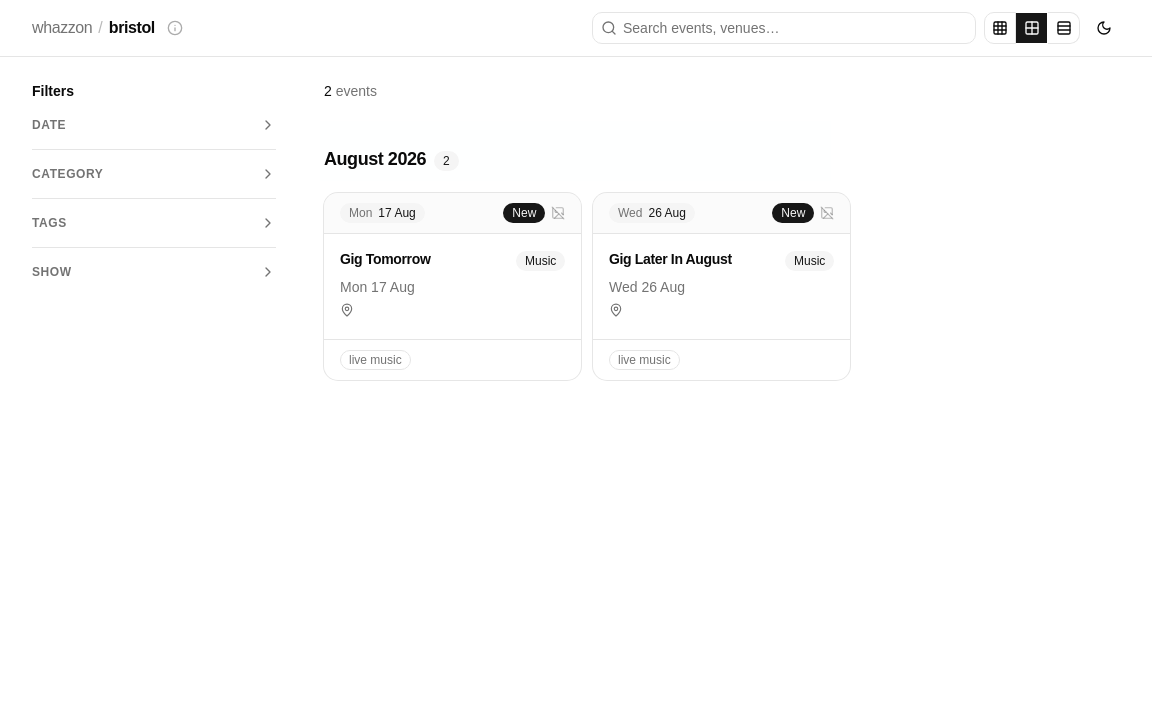
the date control, on the real page › filters when days are clicked in the calendar
Check: the heading "Gig Tomorrow" is shown, box [340,251,430,267]
What coordinates should you click on to do the following:
click the button "Date"
I would click on:
 (154, 125)
Its box is [32,113,276,137].
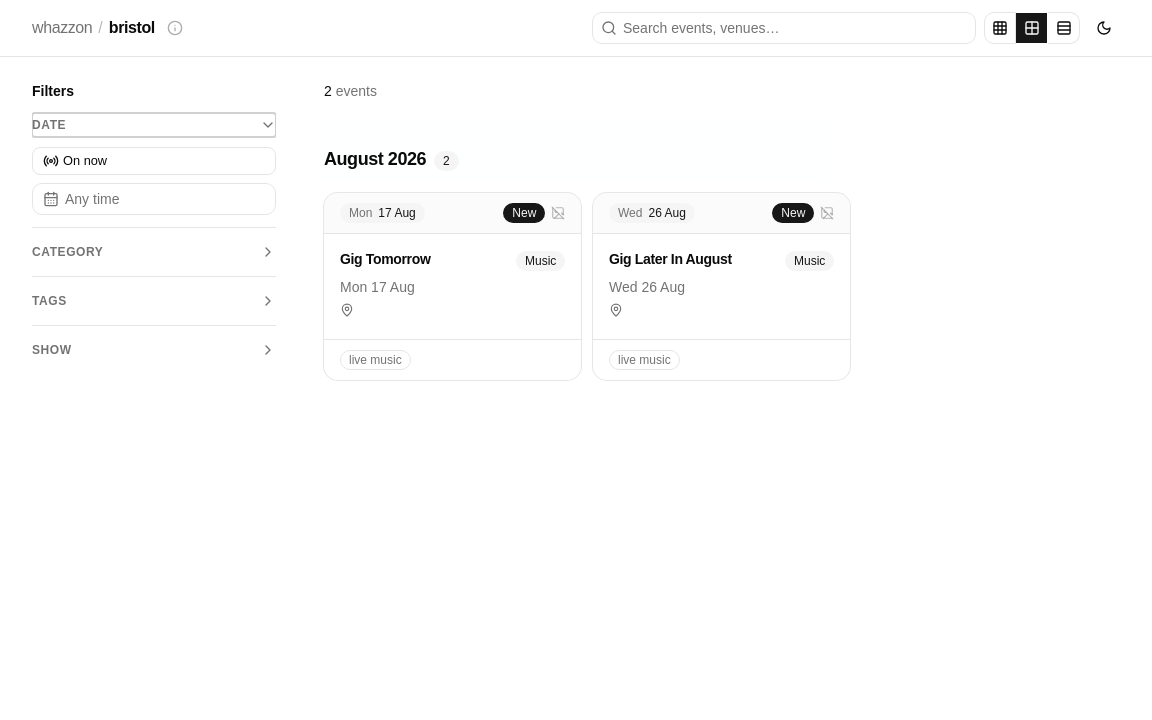
What coordinates should you click on to do the following:
click the button "Any time"
I would click on:
 (154, 199)
Its box is [32,183,276,215].
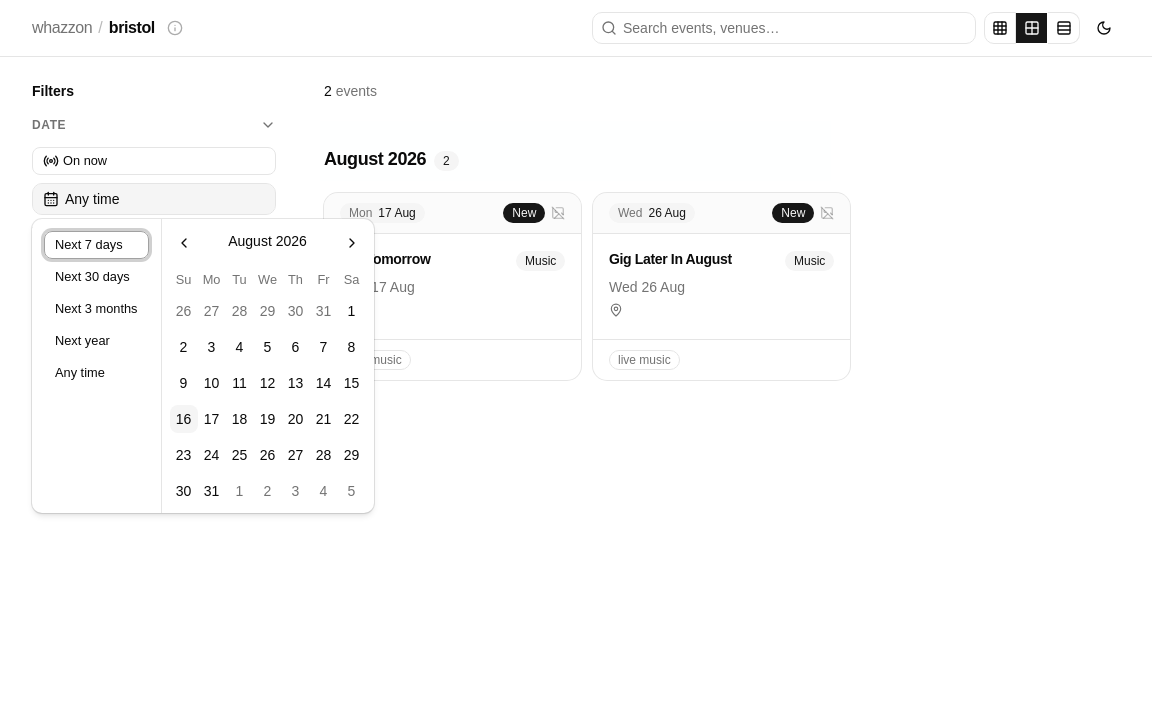
What coordinates should you click on to do the following:
click the button named "August 25th, 2026"
I would click on:
 (240, 455)
Its box is [226,441,254,469].
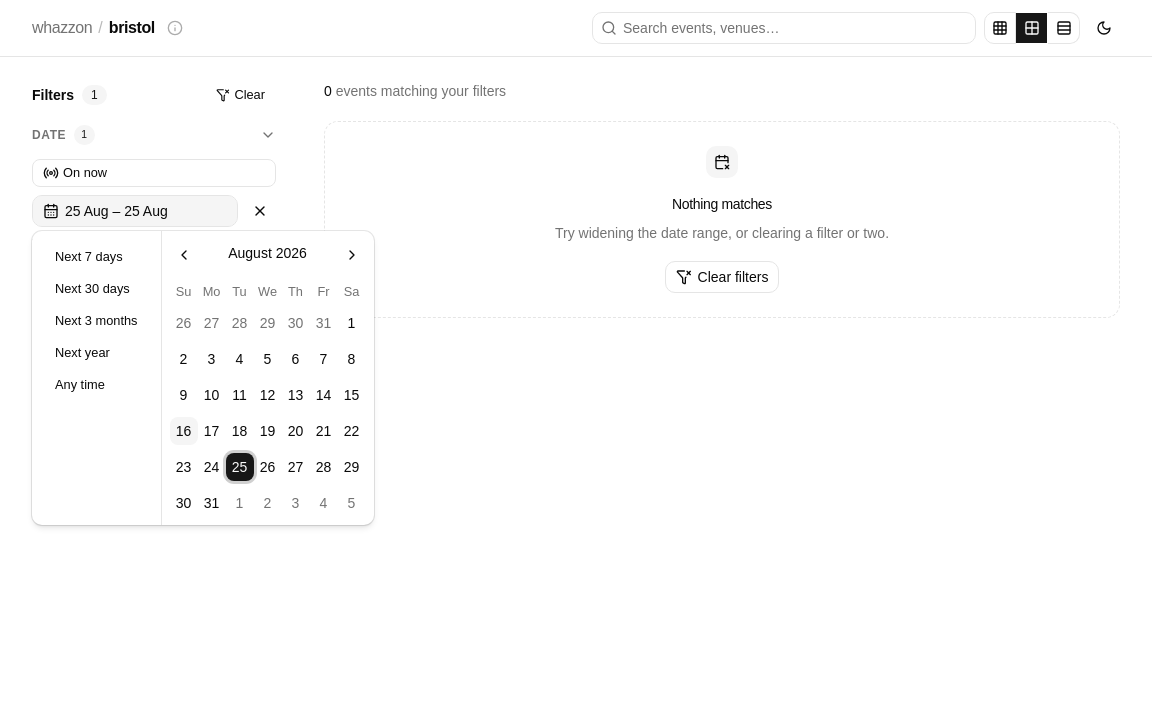
What coordinates should you click on to do the following:
click the button named "August 27th, 2026"
I would click on:
 (296, 467)
Its box is [282,453,310,481].
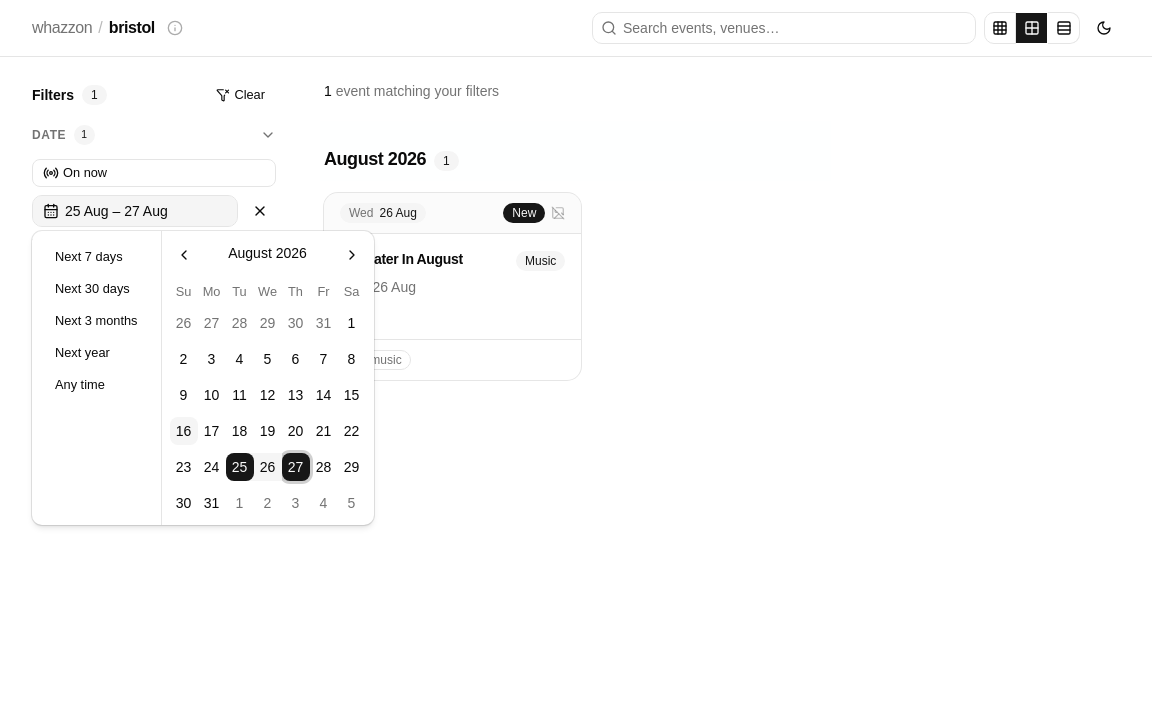
Check: the button "Gig Tomorrow" is not shown
Check: the heading "Gig Later In August" is shown, box [340,251,463,267]
